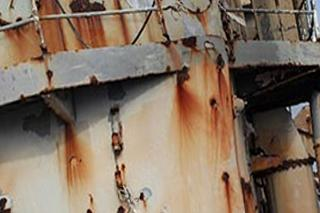rust: (165, 41, 232, 170), (34, 2, 109, 49), (105, 107, 137, 197), (60, 119, 94, 178), (3, 26, 30, 66), (217, 174, 238, 213), (191, 6, 215, 36), (45, 70, 58, 90)
